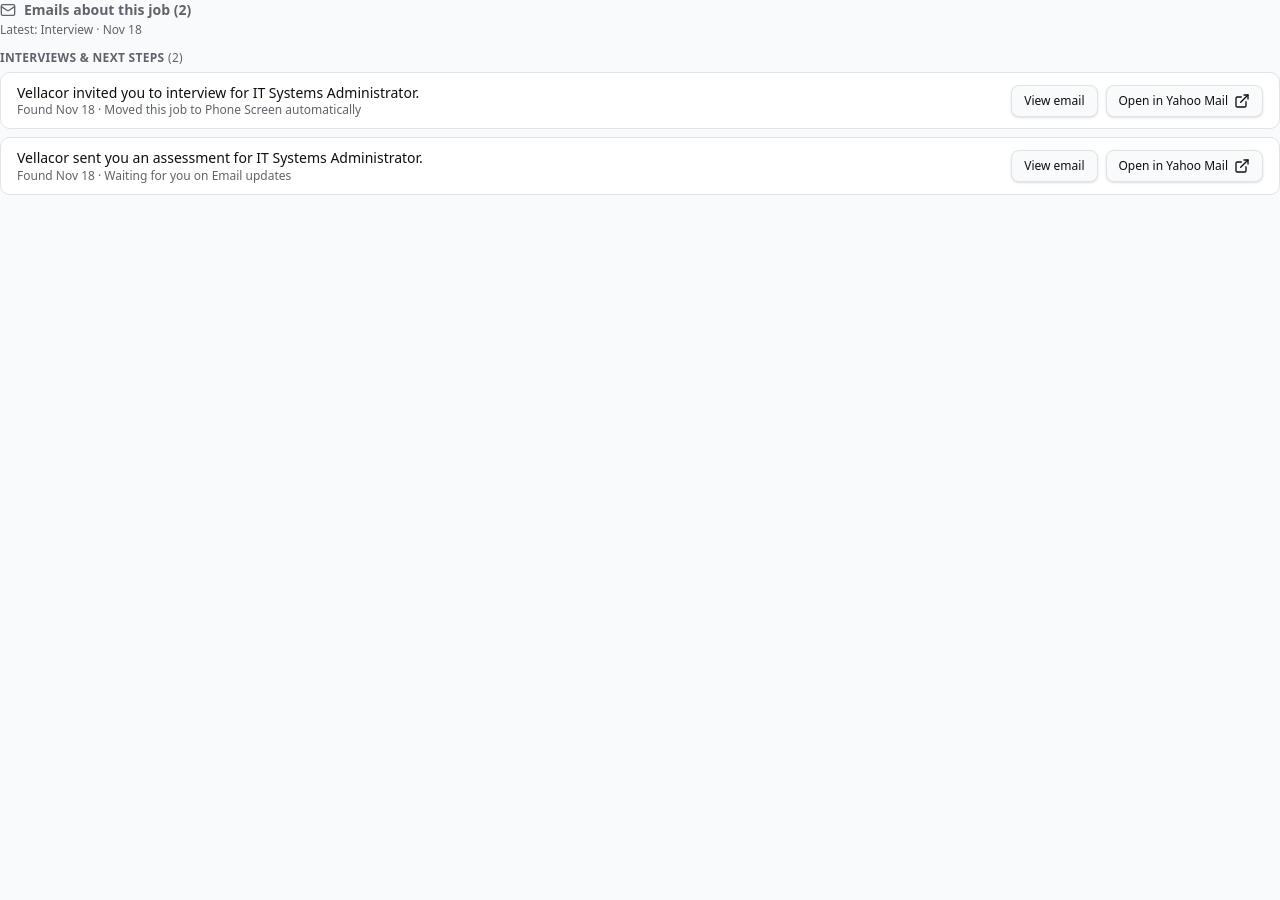
it: JobEmails › opens a quick view with the text, the direct link and a search fallback
Step 1. Click the 1st button "View email" → x=1054, y=101, box [1011,85,1098,117]
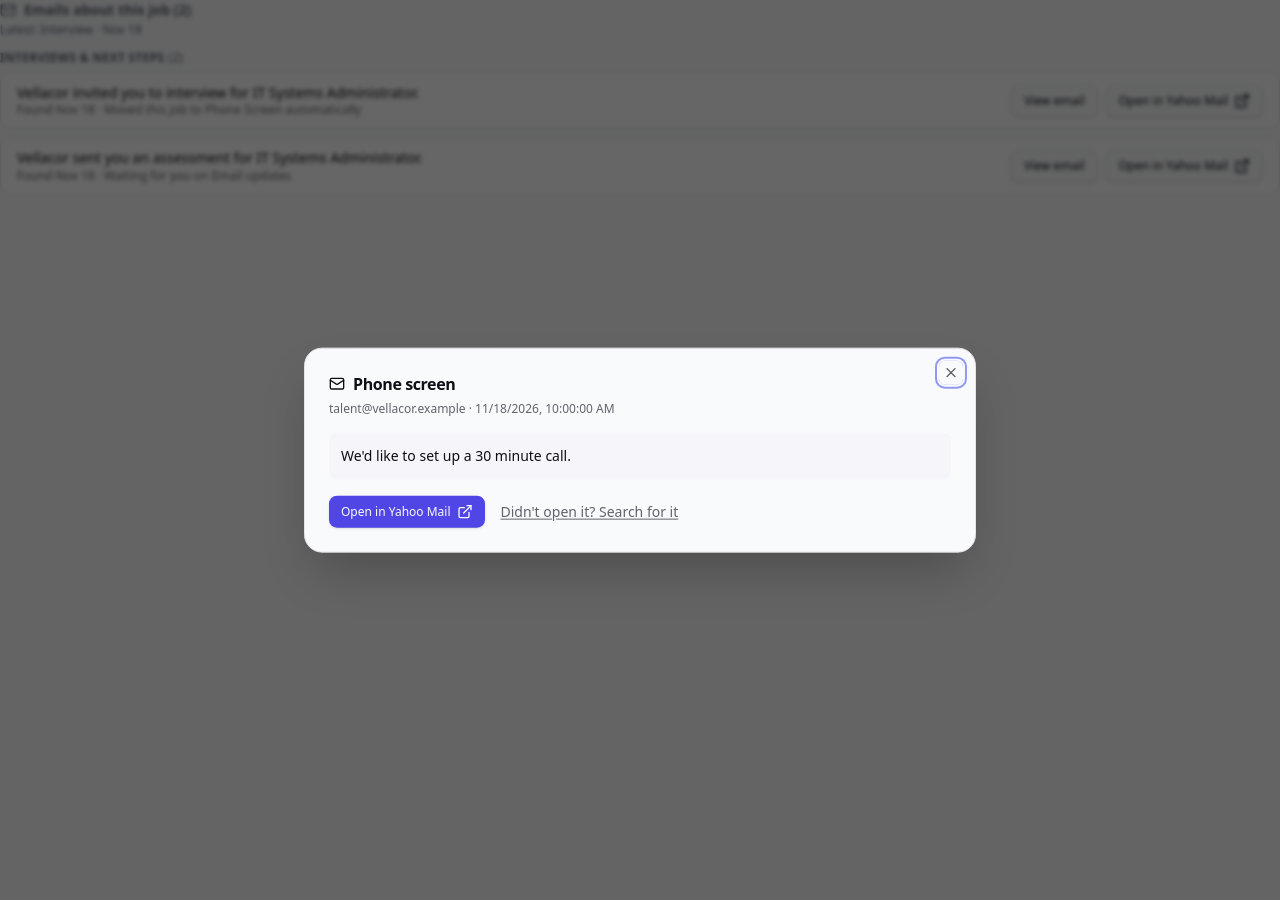
Check: the text "We'd like to set up a 30 minute call." is shown, box [329,433,951,479]
